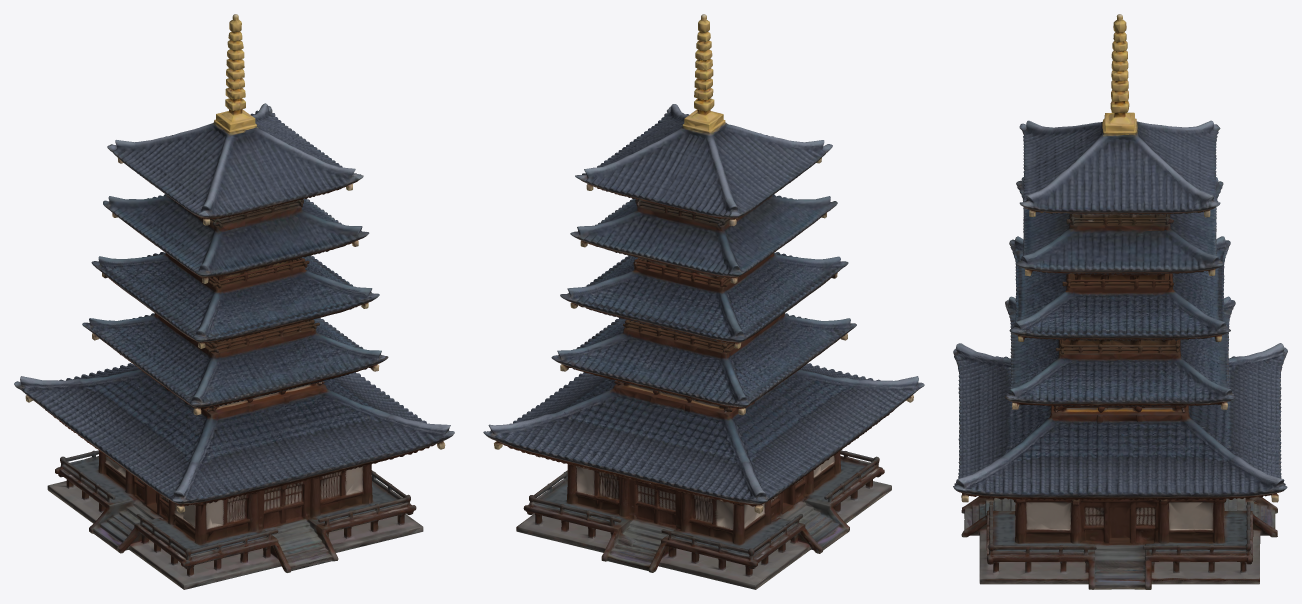
The model's file is pagoda.glb.
3 renders of one model, left to right at view 1: azimuth 30°, elevation 25°; view 2: azimuth 150°, elevation 25°; view 3: azimuth 270°, elevation 25°, orthographic. The views are drawn at different scales.
Parts seen in each view (by area): view 1: pagoda-near; view 2: pagoda-near; view 3: pagoda-near.
Part boxes in pixels (x1,y1,x2,y2): pagoda-near: [14, 14, 454, 589]; pagoda-near: [483, 14, 924, 589]; pagoda-near: [953, 14, 1287, 589].
Bounding box in the file's own units: 0.5958 × 0.9999 × 0.5946.
Materials: 1 (1 with a texture image).
